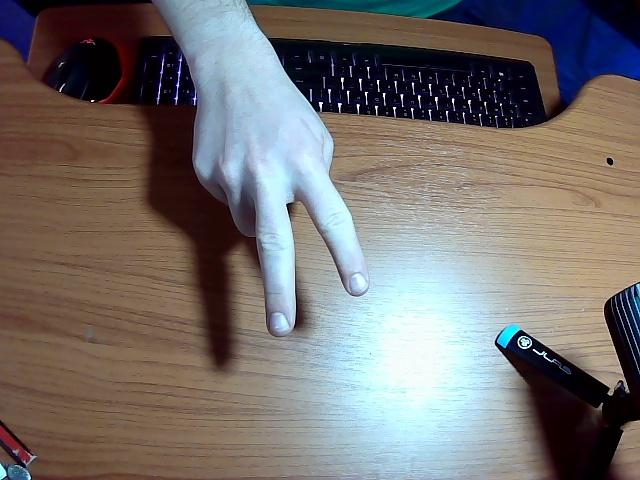scissors: (155, 0, 369, 336)
